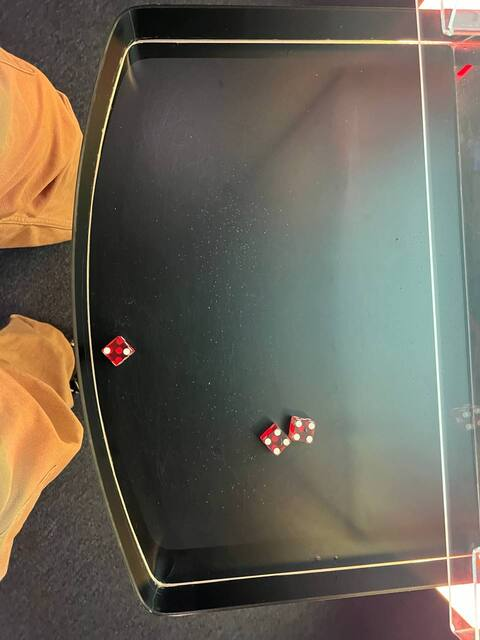four: (259, 425, 294, 458), (288, 418, 318, 445)
two: (100, 336, 137, 368)
